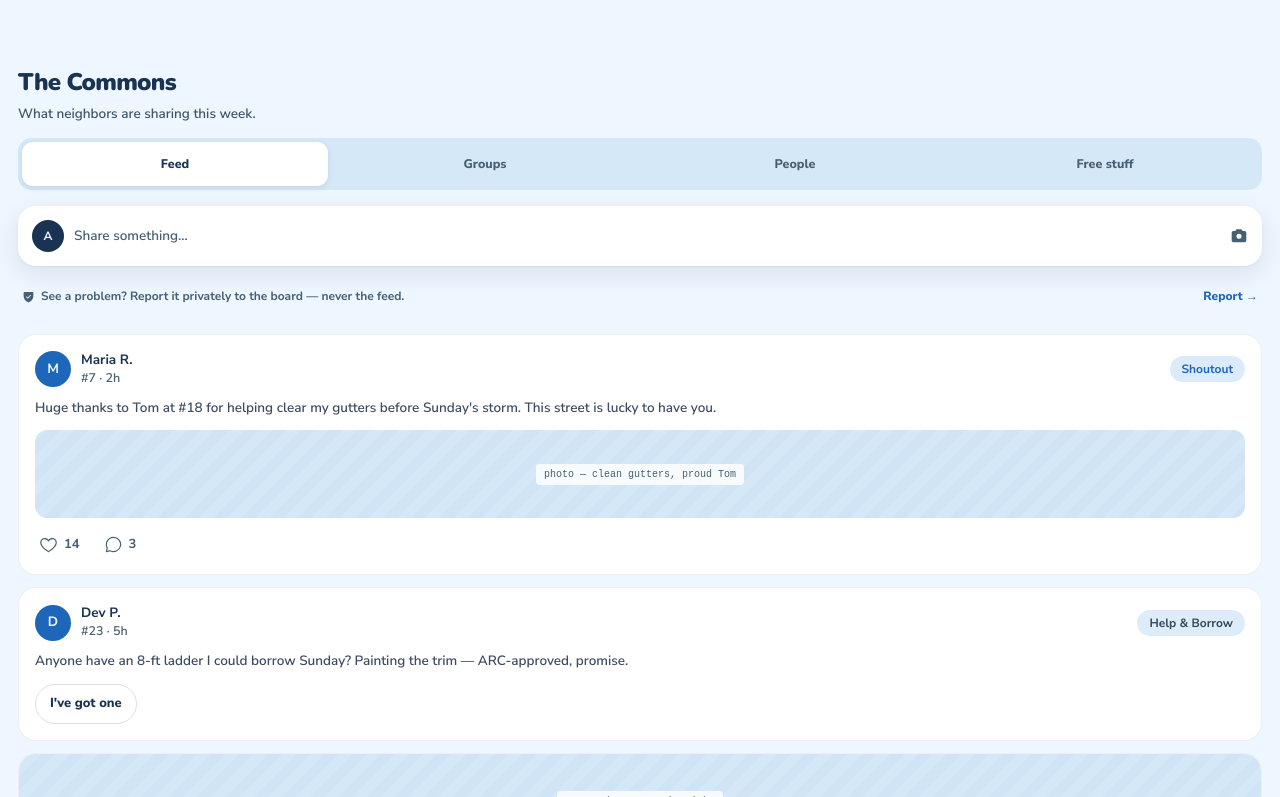
Scenario: free table claim flips button state
Click the button "Free stuff": [1105, 164] box left=952, top=142, right=1258, bottom=186
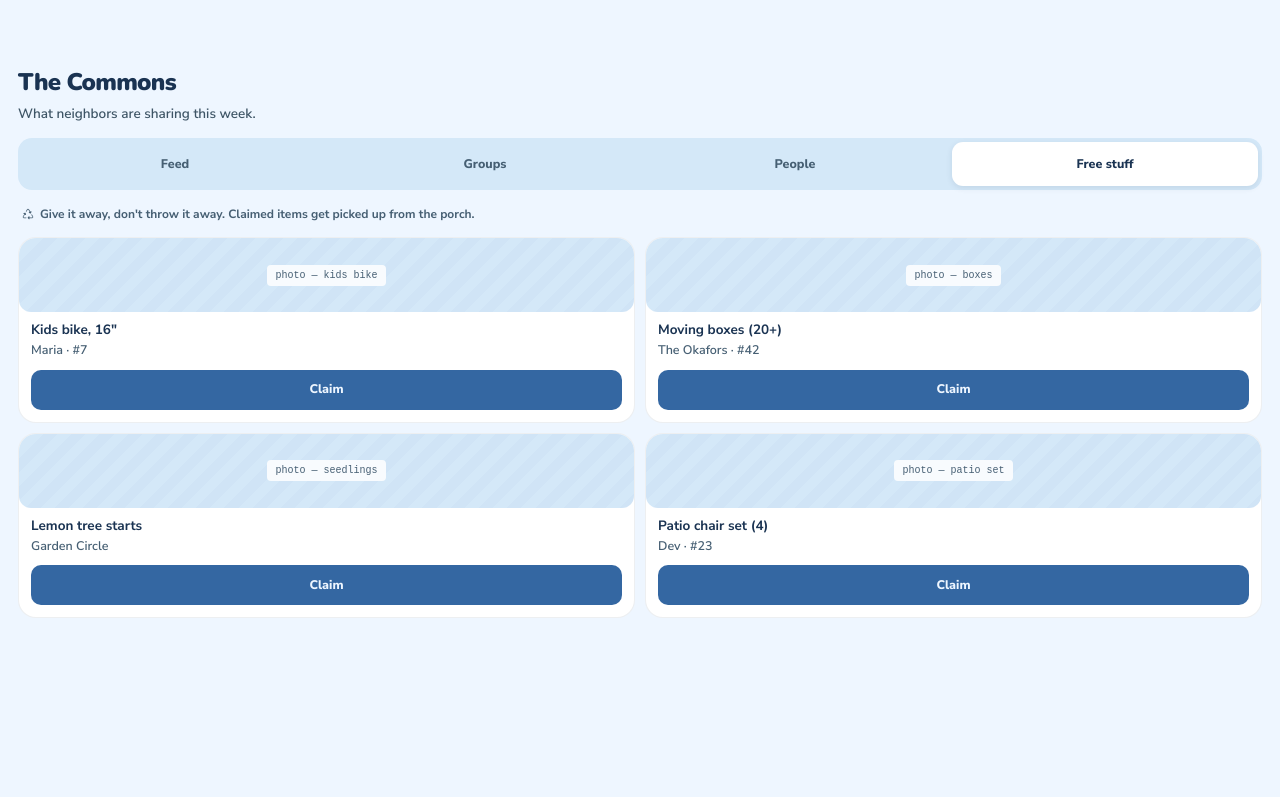
Click the button "Claim" below "Maria · #7": [326, 390] box left=31, top=370, right=622, bottom=410
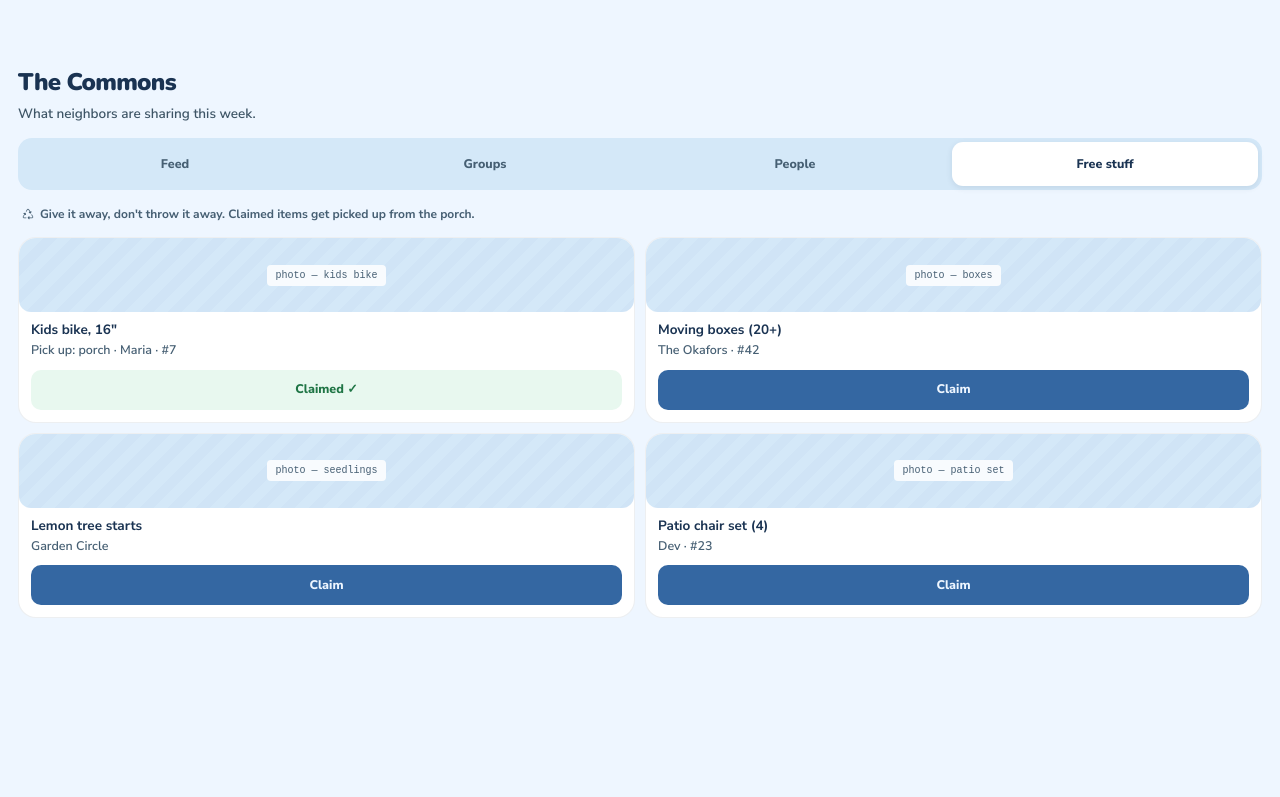
Check: the button "Claimed ✓" is shown, box left=31, top=370, right=622, bottom=410
